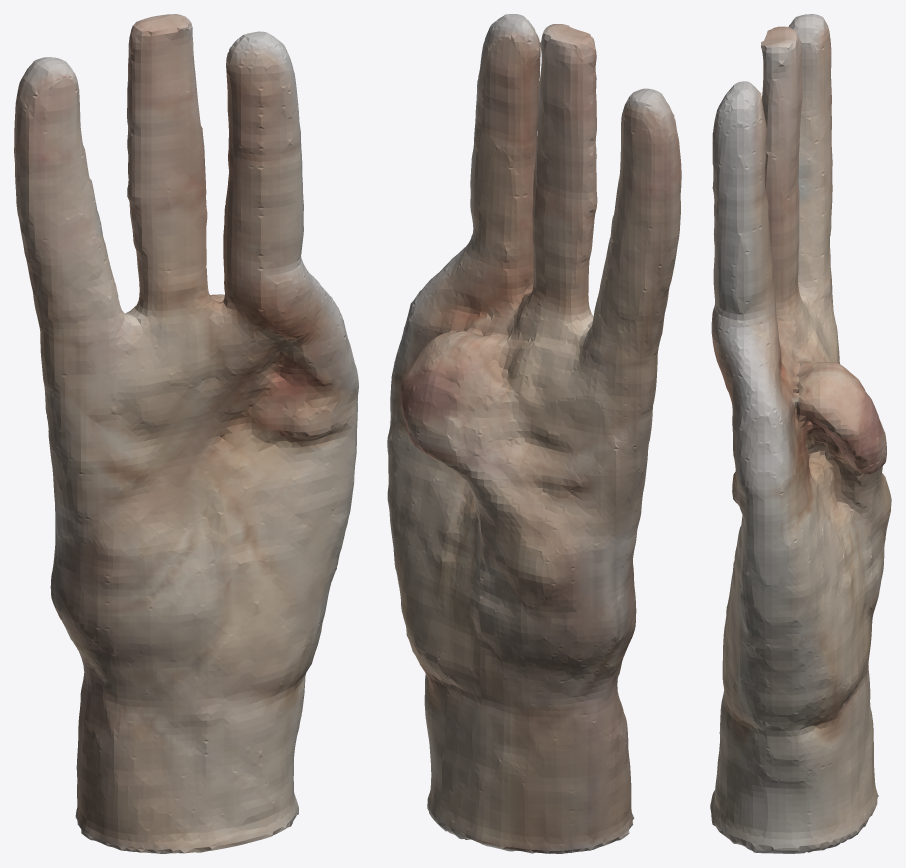
Rendered from ASL6.glb.
3 views of the same model, side by side, from view 1: azimuth 30°, elevation 25°; view 2: azimuth 150°, elevation 25°; view 3: azimuth 270°, elevation 25° (orthographic). The views are drawn at different scales.
Visible parts, largest first — view 1: world; view 2: world; view 3: world.
Boxes of the visible parts, left/top/right/bottom form: world: left=14, top=14, right=358, bottom=853; world: left=387, top=14, right=681, bottom=853; world: left=710, top=14, right=891, bottom=853.
Bounding box in the file's own units: 0.8057 × 2 × 0.431.
